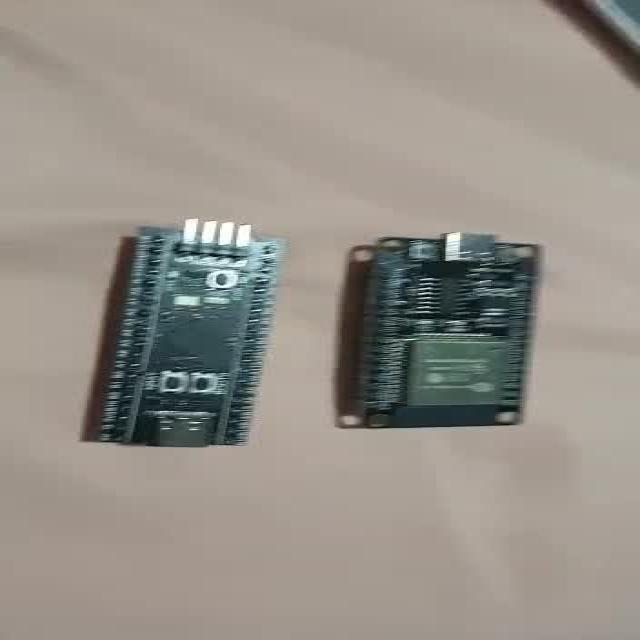ESP32: (359, 234, 540, 427)
STM32: (84, 220, 284, 447)
